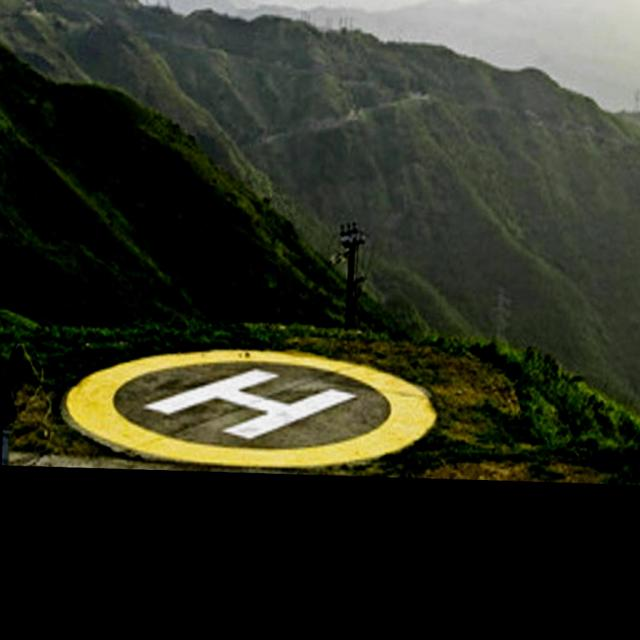helipad: (64, 342, 440, 471)
